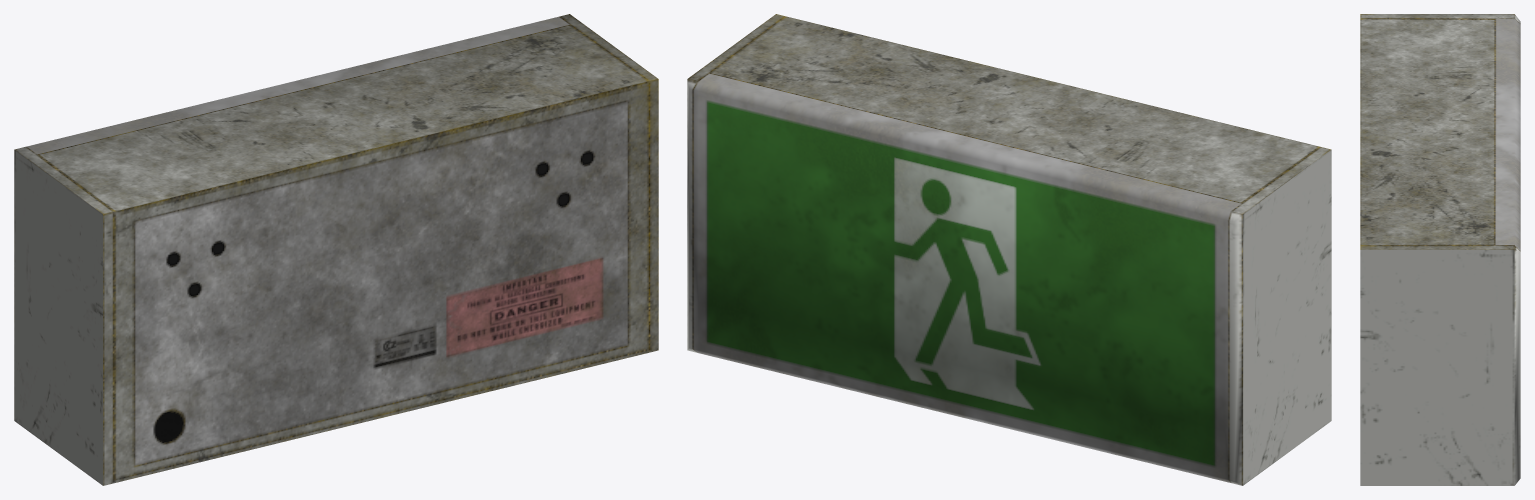
The model's file is exitsign.glb.
3 renders of one model, left to right at view 1: azimuth 30°, elevation 25°; view 2: azimuth 150°, elevation 25°; view 3: azimuth 270°, elevation 25°, orthographic. The views are drawn at different scales.
Parts seen in each view (by area): view 1: Box045; view 2: Box045; view 3: Box045.
Part boxes in pixels (box(x1,y1,x2,y2)): Box045: box(14, 14, 658, 485); Box045: box(687, 14, 1331, 485); Box045: box(1360, 14, 1520, 485).
Bounding box in the file's own units: 55.65 × 27.3 × 16.
1 material, 1 textured.
